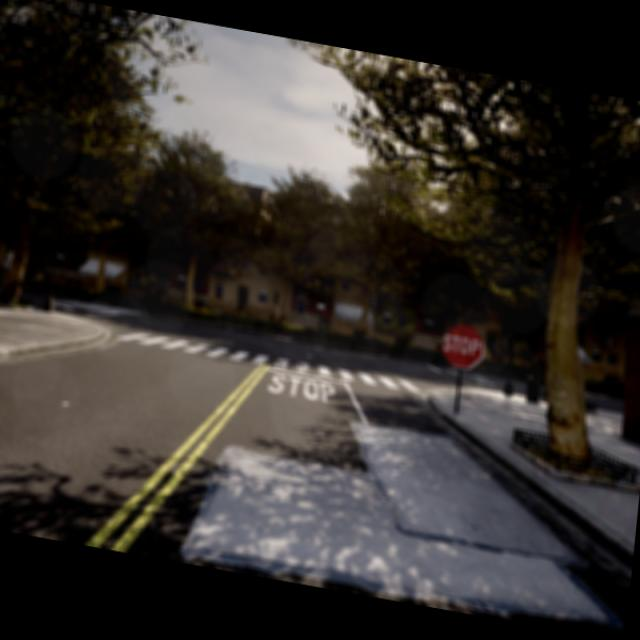stop sign: (438, 320, 488, 373), (443, 332, 482, 357)
